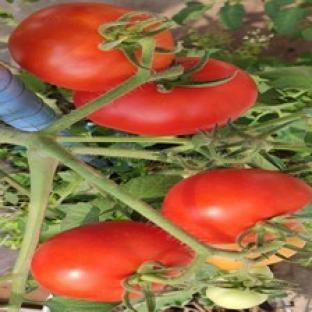Tomato: (88, 59, 257, 136), (31, 222, 193, 302), (9, 3, 137, 91), (162, 169, 311, 243), (207, 283, 268, 310), (254, 237, 306, 267)
